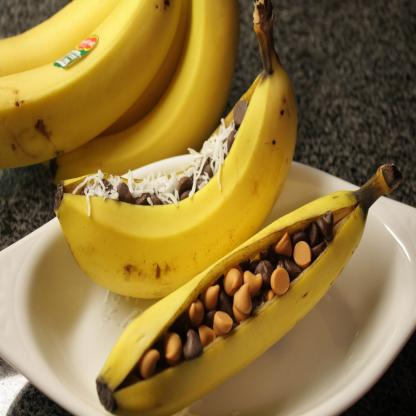banana: (98, 190, 373, 412), (69, 54, 309, 300), (32, 0, 244, 198), (1, 0, 188, 178)
